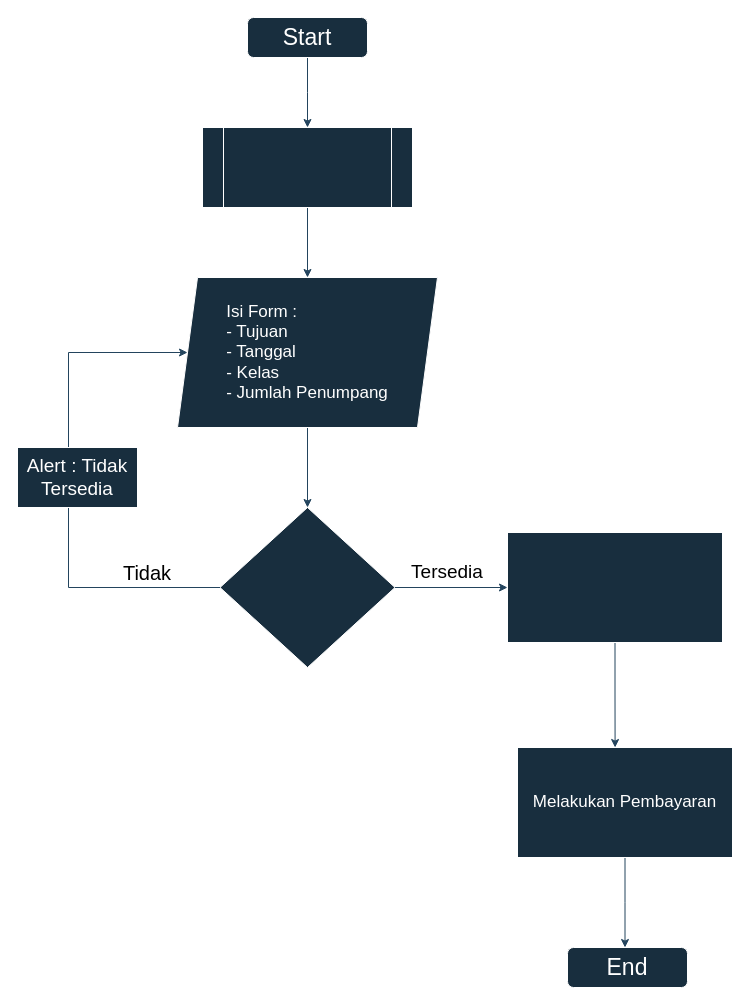
Image size: 750x1005. Some labels were removed from this diagram. The centre of each missing label's shape, as x and y in pixels:
"Landing Page" belongs at [307,167].
"Memilih pesawat dan membandingkan harga" belongs at [614,587].
"Tidak / Tersedia?" belongs at [307,587].
